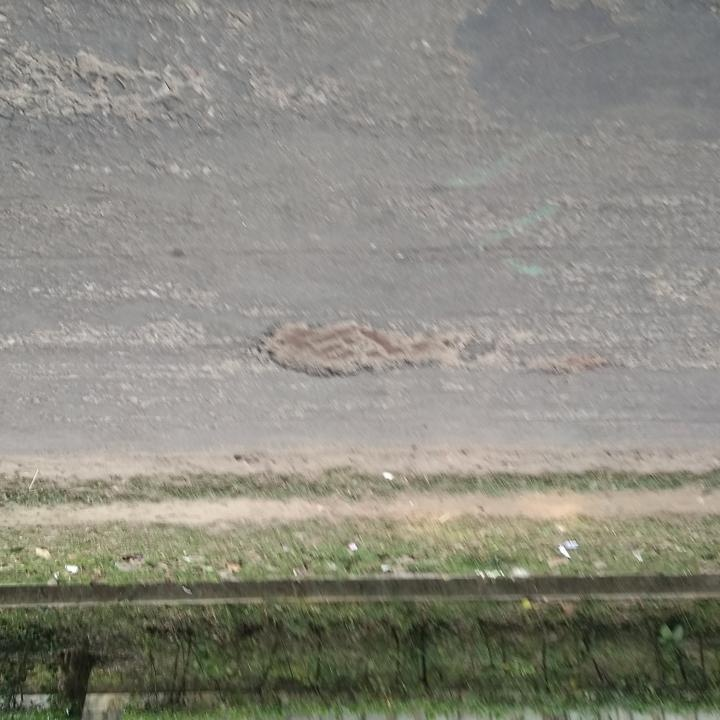pothole: (257, 310, 478, 381)
